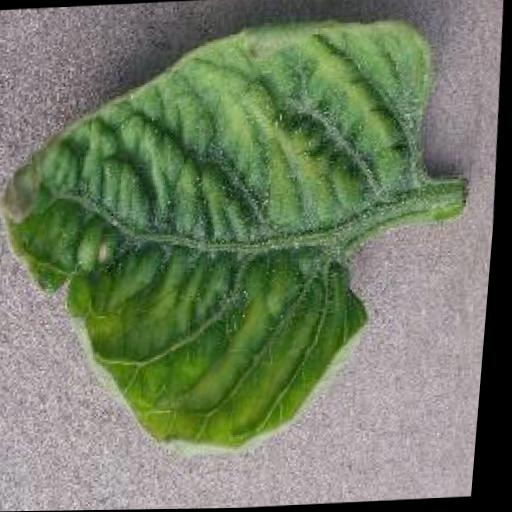Yellow Leaf Curl Virus: (0, 15, 452, 463)
